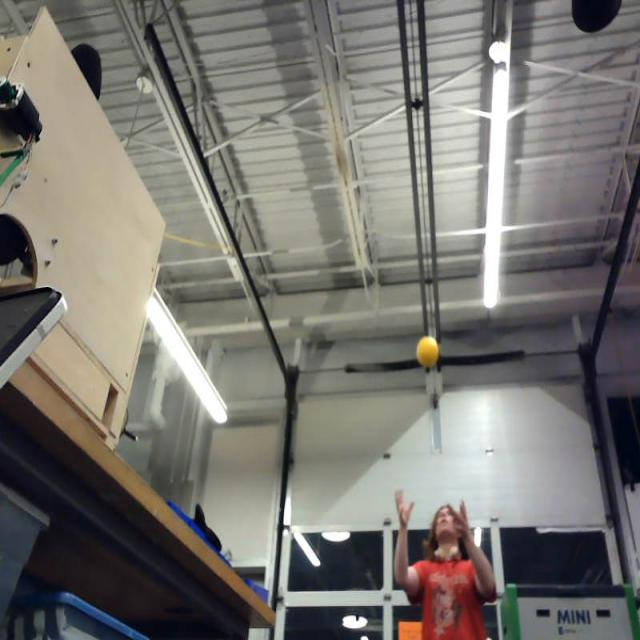Fuel: (417, 337, 439, 367)
